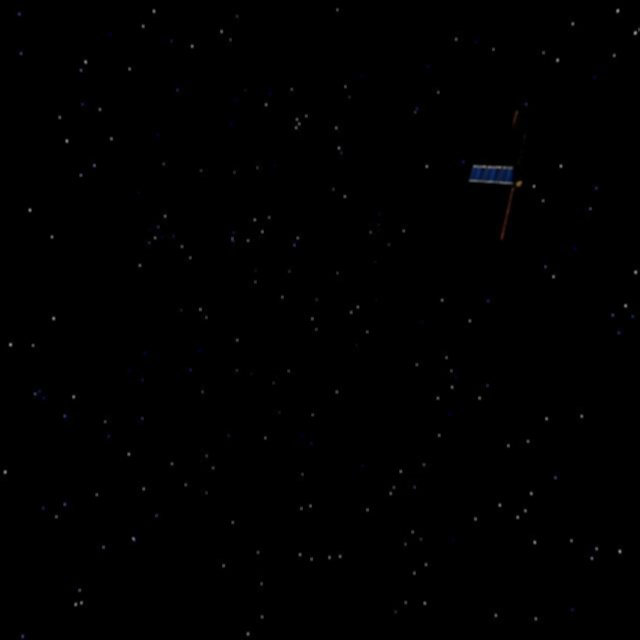satellite: (469, 93, 540, 247)
